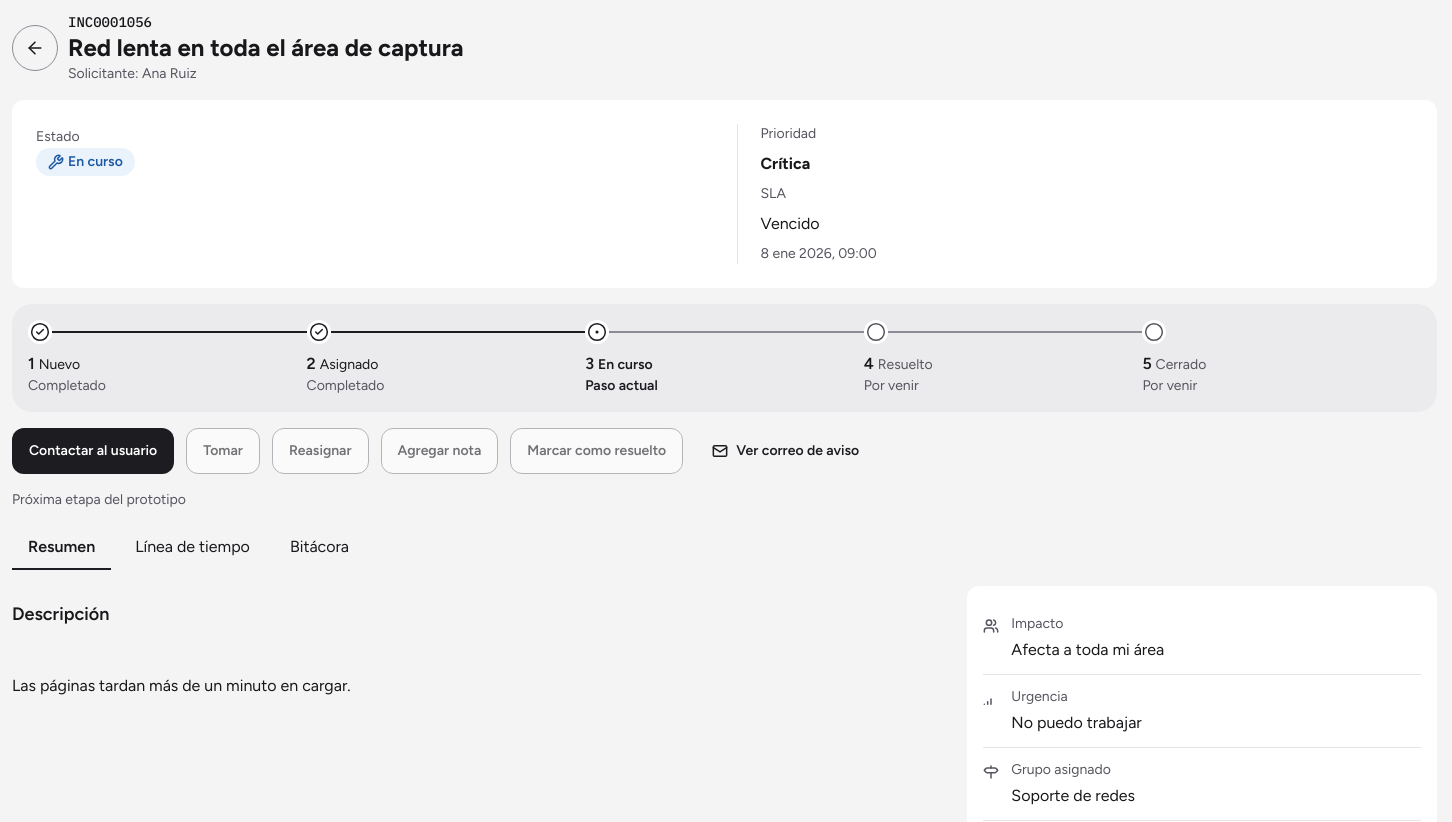
Test: TicketRecord (T2) › tabs switch between Resumen, Línea de tiempo and Bitácora
Expected: the text "Las páginas tardan más de un minuto en cargar." is shown, [12,676,351,695]
Click the tab "Línea de tiempo".
click(193, 548)  # box [119,526,266,570]
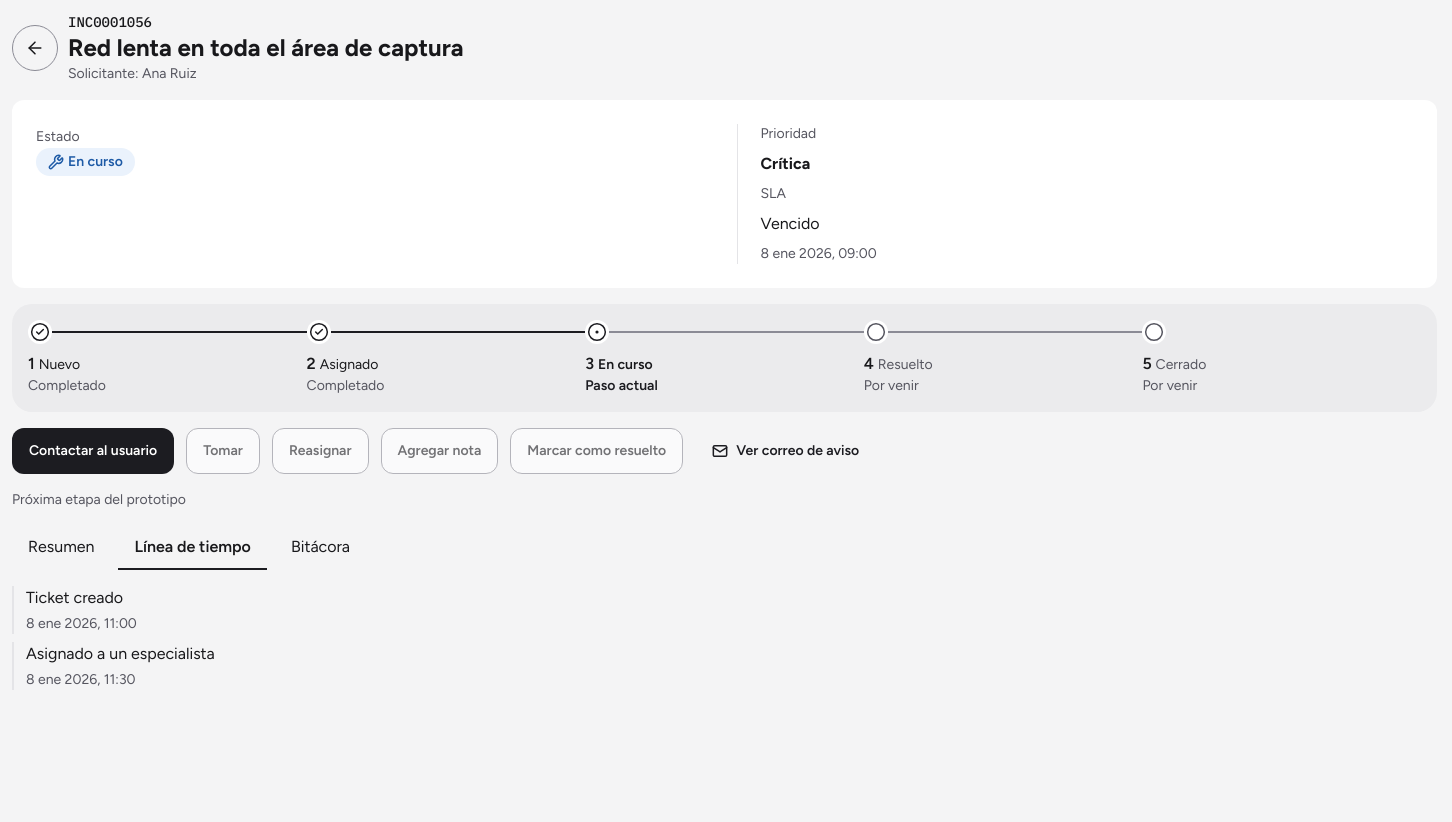
Click the tab "Bitácora".
click(320, 548)  # box [275,526,366,570]
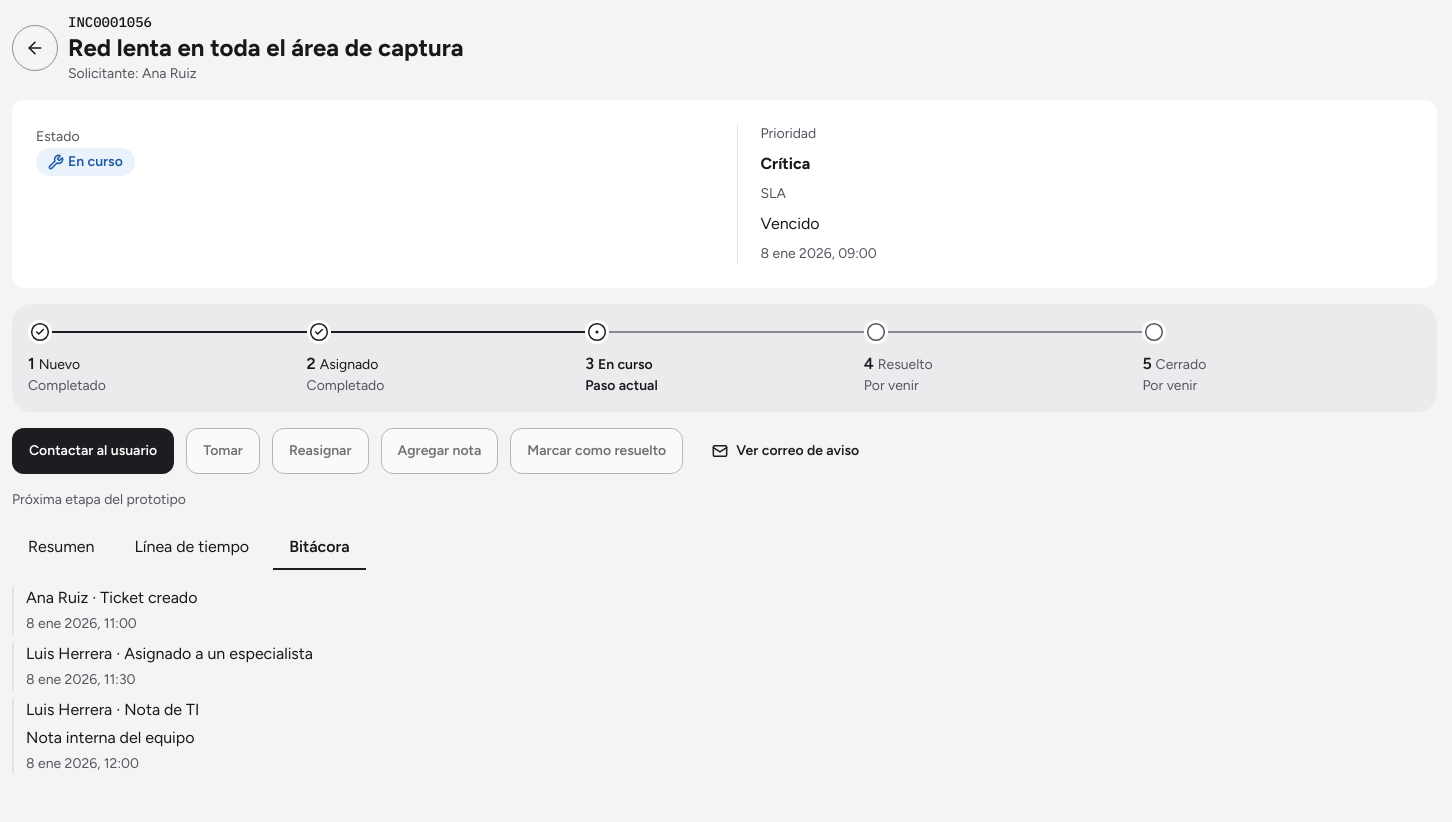
Expected: the 8th list item shows "Nota interna del equipo", [26,728,194,747]
Expected: the 8th list item shows "Luis Herrera", [26,700,112,719]
